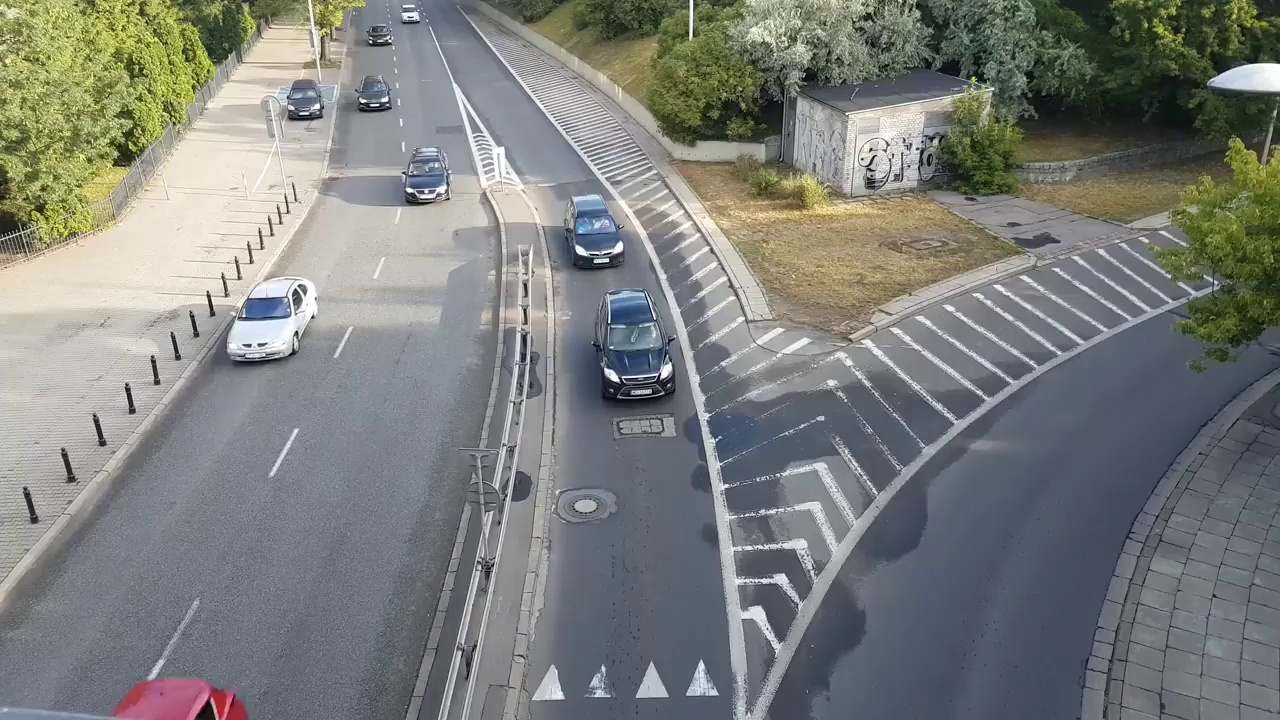car: (594, 289, 673, 404), (229, 277, 321, 360), (563, 193, 624, 270), (402, 147, 455, 204), (288, 79, 323, 120), (358, 73, 391, 114), (368, 23, 392, 46), (400, 4, 421, 27)
